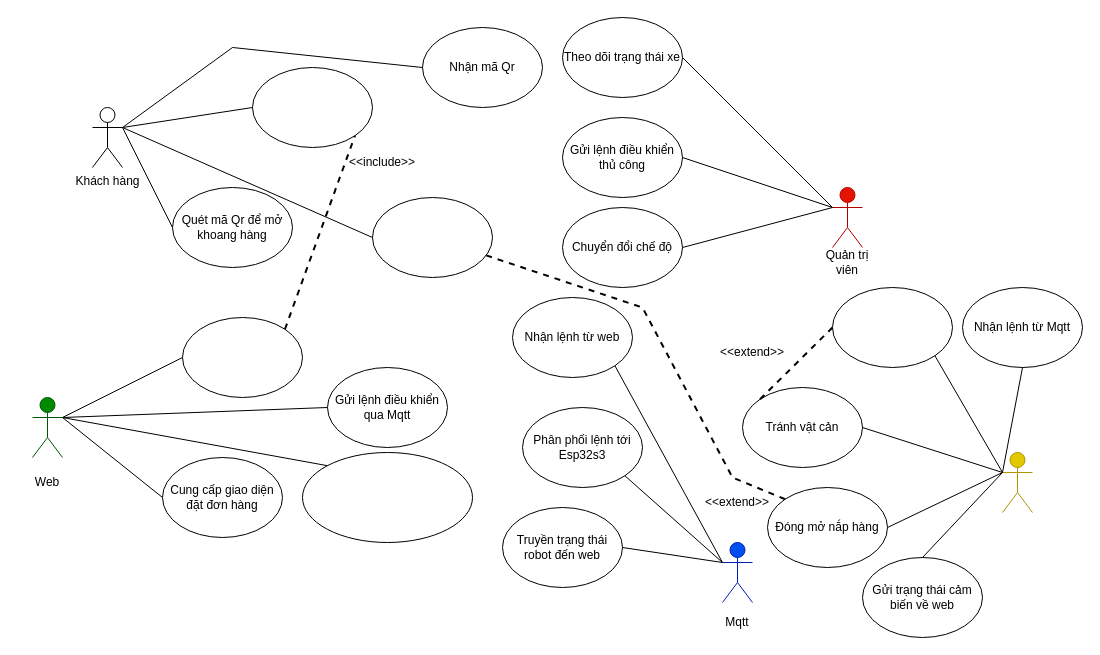
The diagram is 1100 pixels wide and 655 high, and some of its shapes have lost their labels. Each missing label, with the box of its shape:
Di chuyển đến đích: (832, 286, 952, 368)
Robot: (1002, 452, 1032, 512)
Sinh mã Qr từ API VietQr: (182, 316, 302, 398)
Trả về thông tin đơn hàng và Qr cho khách: (302, 452, 472, 542)
Xác nhận đã nhận hàng: (372, 196, 492, 278)
Đặt đơn hàng trên web: (252, 66, 372, 148)
